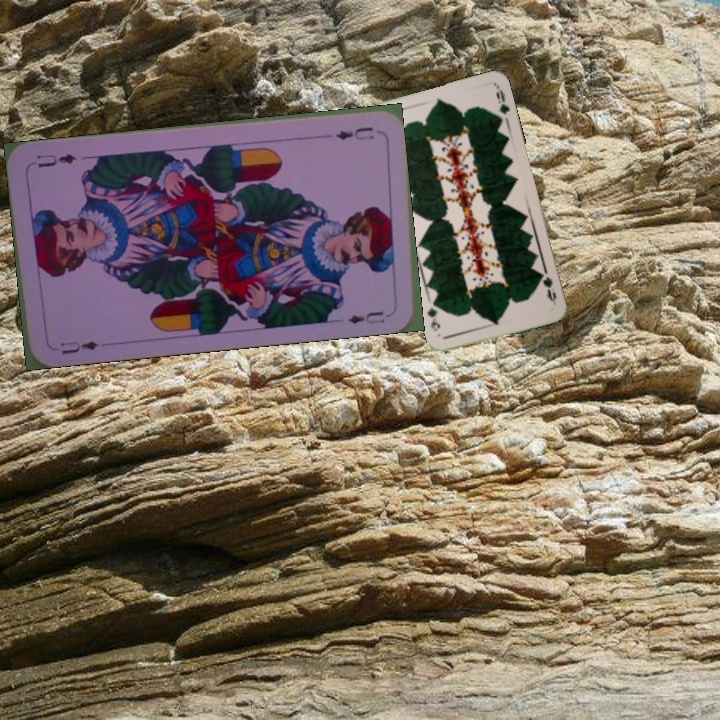EU: (56, 337, 102, 357), (331, 122, 376, 142)
G9: (536, 266, 559, 306)
